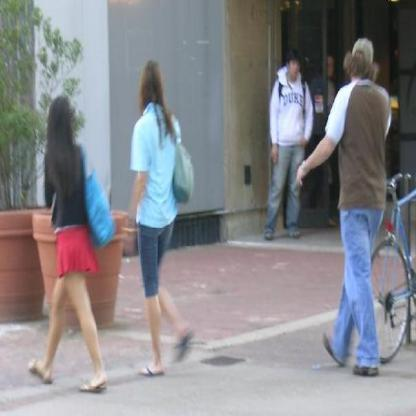person: (110, 56, 210, 376), (310, 42, 400, 389), (29, 96, 120, 397), (264, 49, 304, 239)
